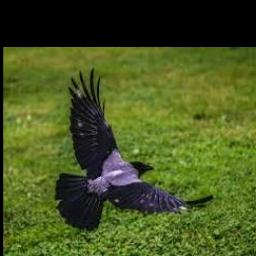Crow: (56, 67, 213, 232)
